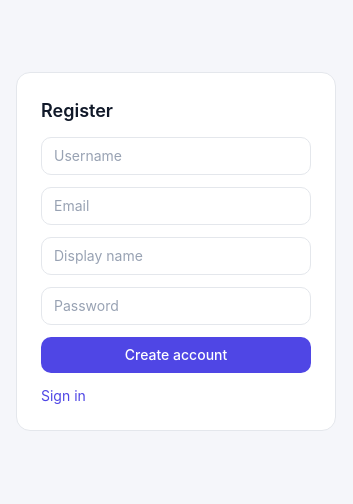
Register form › requires the four fields and an 8-character password
Click the button "Create account" at [176, 354], box [41,336,311,372]
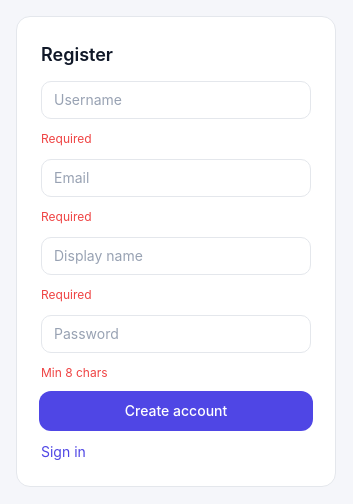
Check: the text "Required" is shown 3 times, box [41,130,92,146]; [41,208,92,224]; [41,286,92,302]
Check: the text "Min 8 chars" is shown, box [41,364,108,380]
